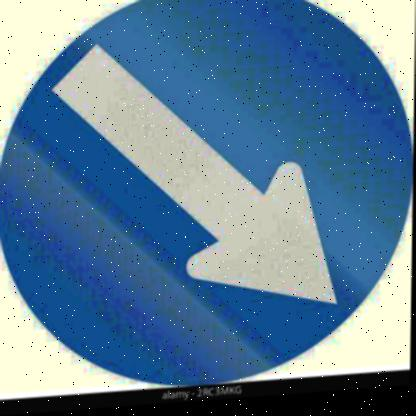Keep right: (0, 0, 416, 399)
